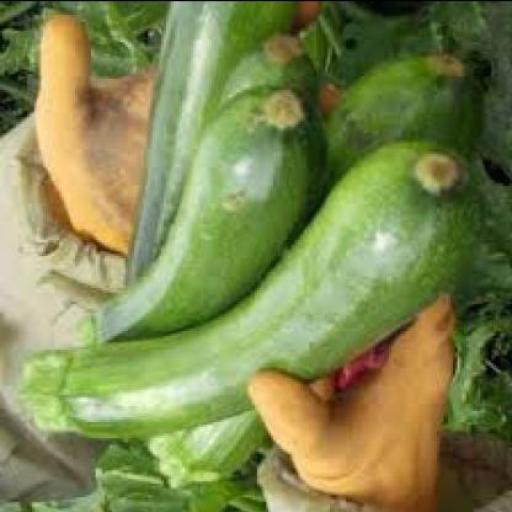biodegradable: (148, 56, 480, 490), (14, 143, 478, 439), (71, 89, 323, 348), (118, 2, 294, 296), (210, 32, 320, 118)
